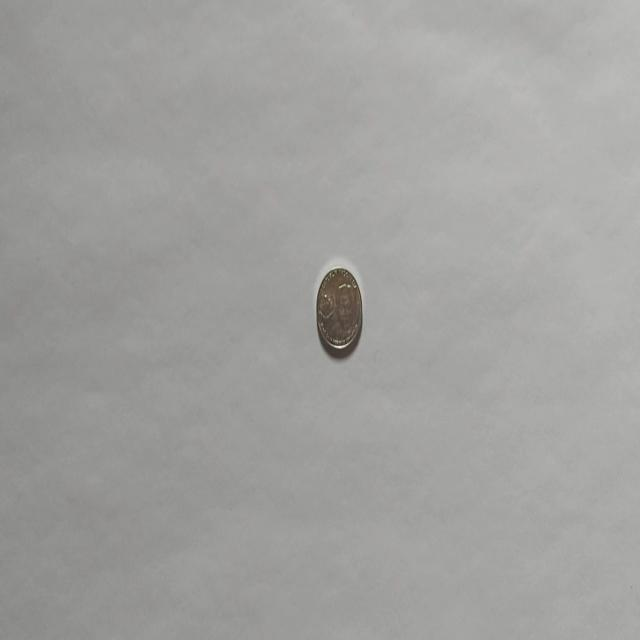seratus rupiah: (315, 265, 363, 354)
